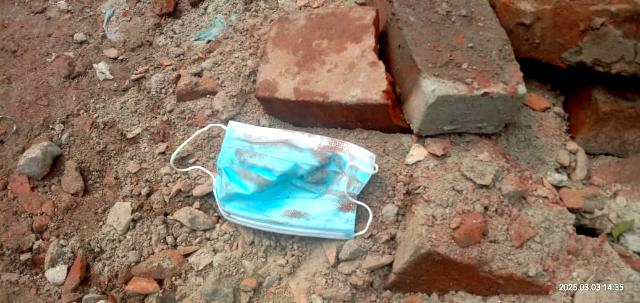mask: (206, 113, 380, 251)
